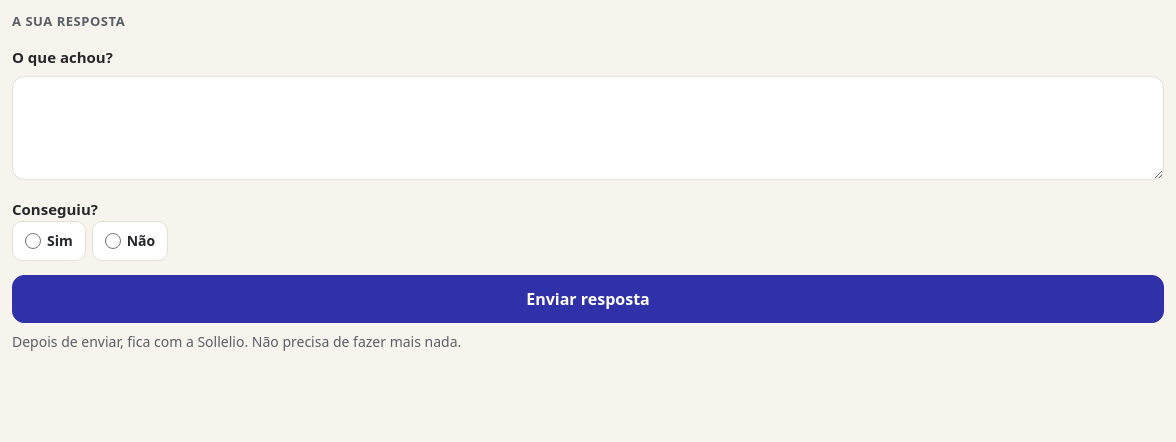
Test: initial round › an ended session is explained, with no redirect, and says unsent answers are lost on leaving
The image size is (1176, 442).
Type "Bem." into the text box labelled "O que achou?" at (588, 128), box [12,76,1164,180]
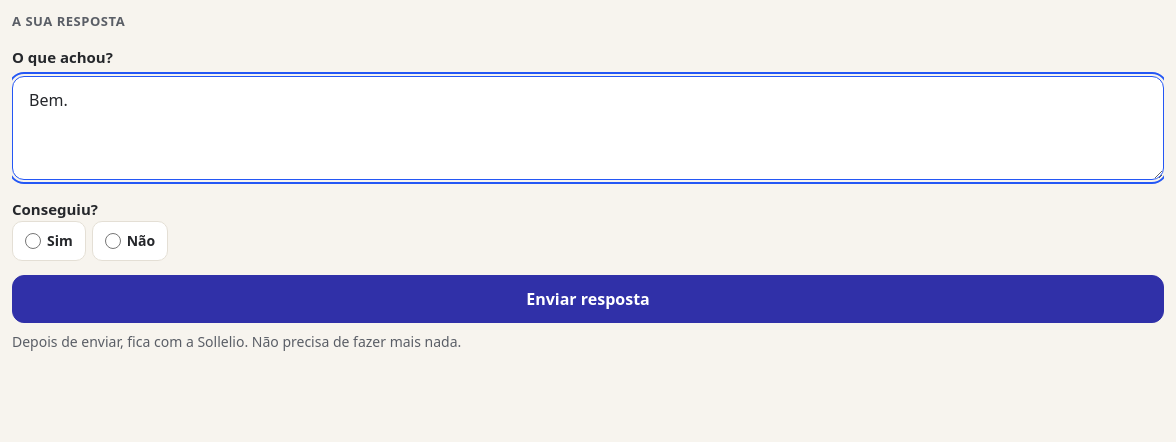
Click the radio button labelled "Sim" at (33, 240), box [25,232,41,248]
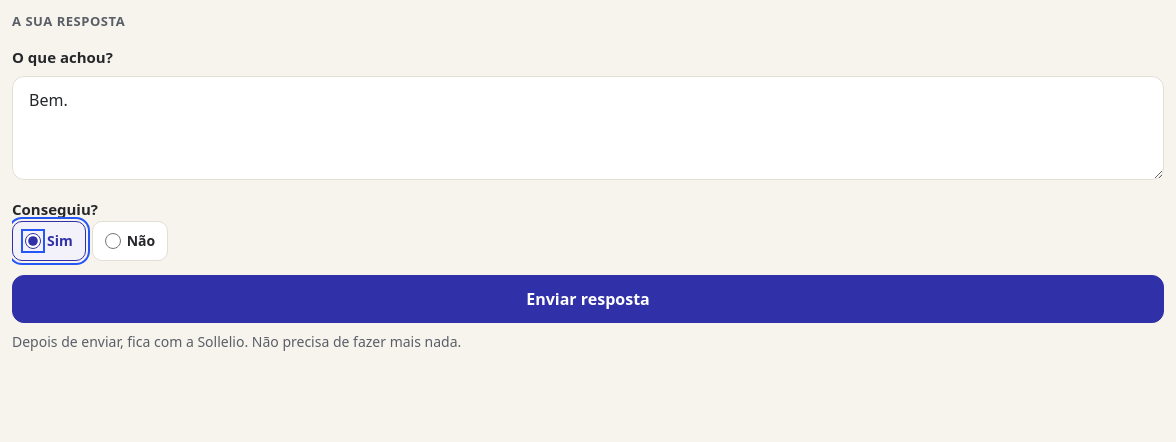
Click the button "Enviar resposta" at (588, 298), box [12,274,1164,322]
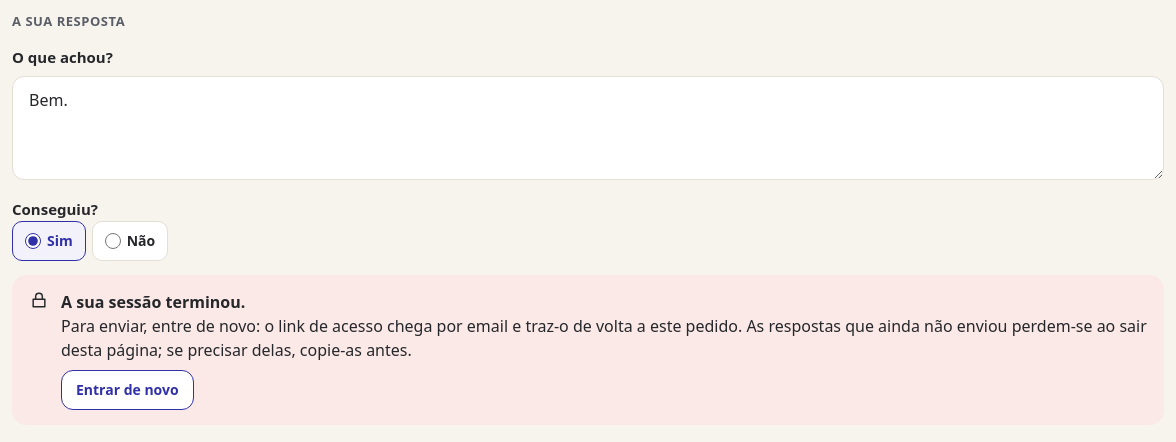
Check: the text "A sua sessão terminou." is shown, box [61,290,245,312]
Check: the text "perdem-se ao sair desta página" is shown, box [61,314,1147,360]
